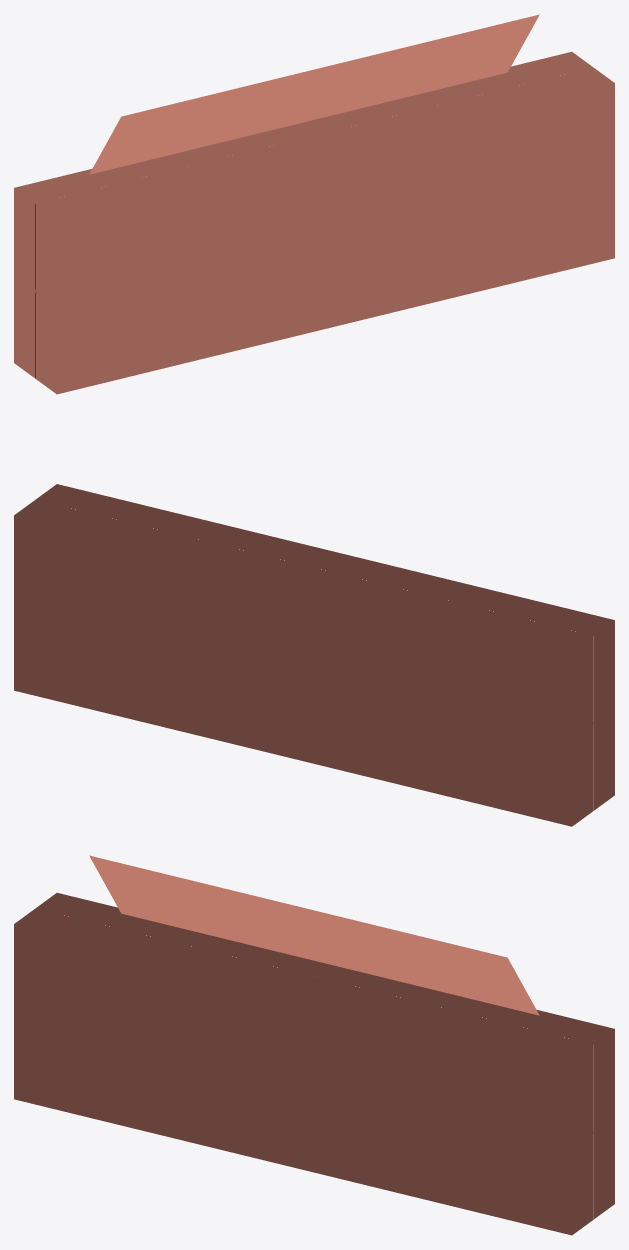
Rendered from trap_t1_tripwire_alarm.glb.
3 views of the same model, one above another, from view 1: azimuth 30°, elevation 25°; view 2: azimuth 150°, elevation 25°; view 3: azimuth 330°, elevation 25° (orthographic).
Parts seen in each view (by area): view 1: trap_t1_tripwire_alarm; view 2: trap_t1_tripwire_alarm; view 3: trap_t1_tripwire_alarm.
Boxes of the visible parts, box(x1,y1,x2,y2) form: trap_t1_tripwire_alarm: box(14, 14, 614, 394); trap_t1_tripwire_alarm: box(14, 484, 614, 826); trap_t1_tripwire_alarm: box(14, 855, 614, 1235).
Size of the model in its own units: 0.6 by 0.264 by 0.08.
